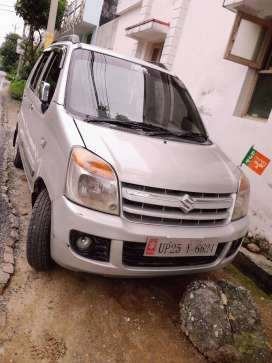license_plate: (147, 239, 217, 257)
